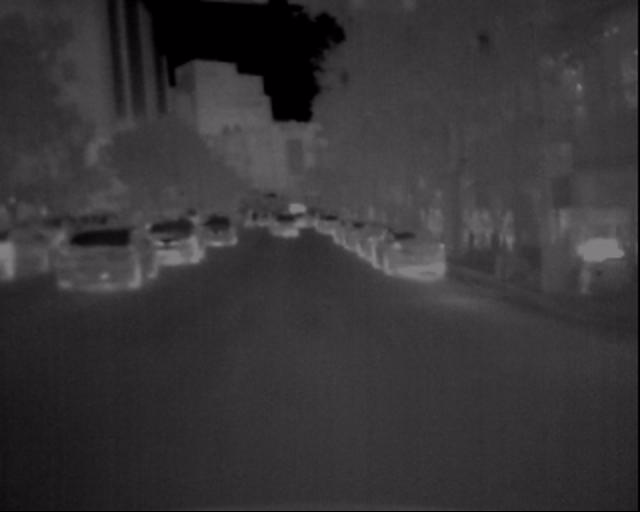person: (471, 200, 500, 258), (496, 201, 520, 267), (458, 202, 478, 255), (245, 208, 265, 237)
